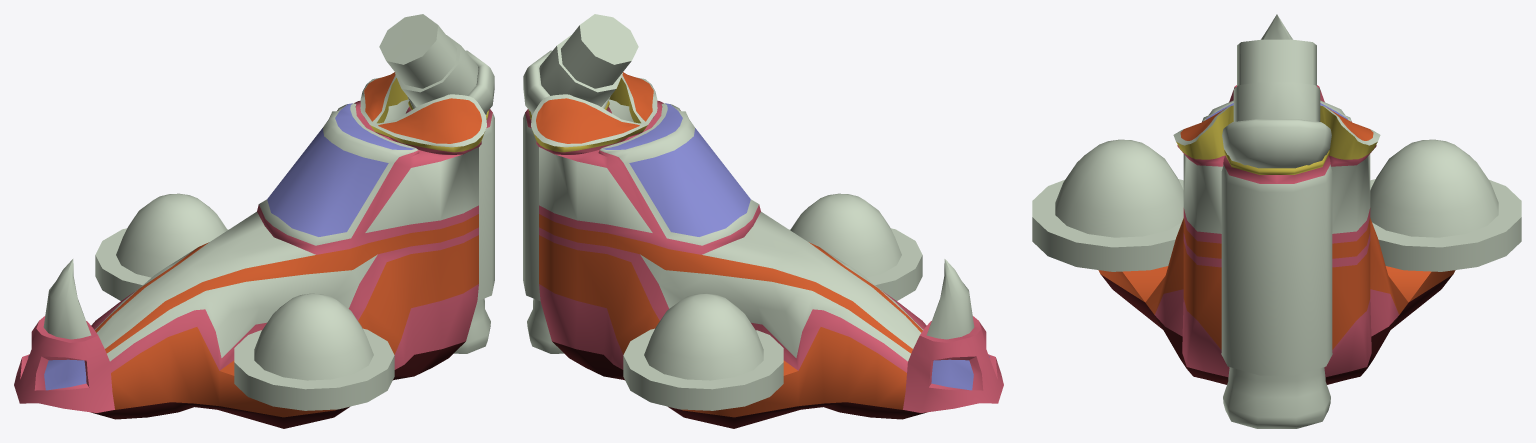
The model's file is miner.fbx.
3 views of the same model, side by side, from view 1: azimuth 30°, elevation 25°; view 2: azimuth 150°, elevation 25°; view 3: azimuth 270°, elevation 25° (orthographic). The views are drawn at different scales.
Parts seen in each view (by area): view 1: BODY, CANNON, FRONT; view 2: BODY, CANNON, FRONT; view 3: CANNON, BODY, FRONT.
Boxes of the visible parts, left/top/right/bottom form: BODY: left=91, top=72, right=486, bottom=428; CANNON: left=95, top=14, right=494, bottom=410; FRONT: left=14, top=259, right=114, bottom=412; BODY: left=531, top=72, right=926, bottom=428; CANNON: left=523, top=14, right=922, bottom=410; FRONT: left=903, top=259, right=1003, bottom=412; CANNON: left=1032, top=39, right=1521, bottom=428; BODY: left=1098, top=100, right=1455, bottom=384; FRONT: left=1229, top=14, right=1324, bottom=102.
Bounding box in the file's own units: 3.33 × 2.19 × 2.67.
